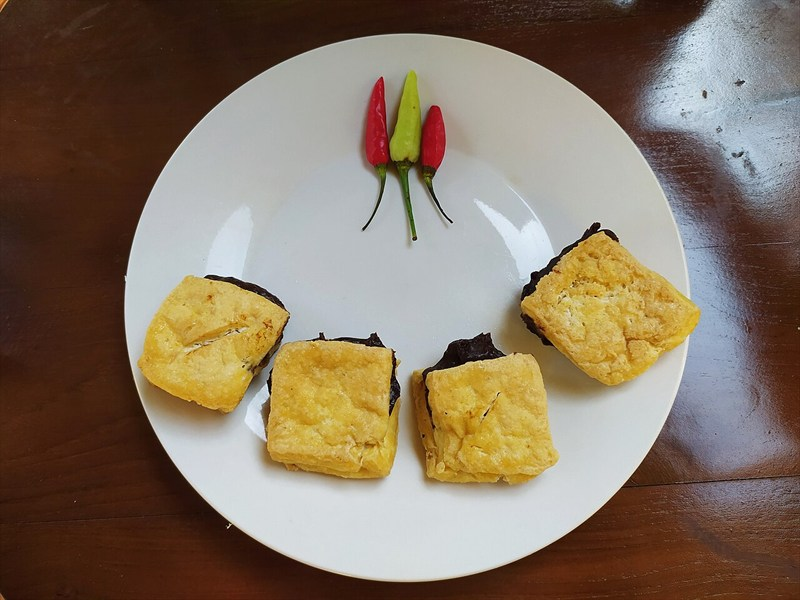Tahu Goreng: (127, 94, 703, 556)
